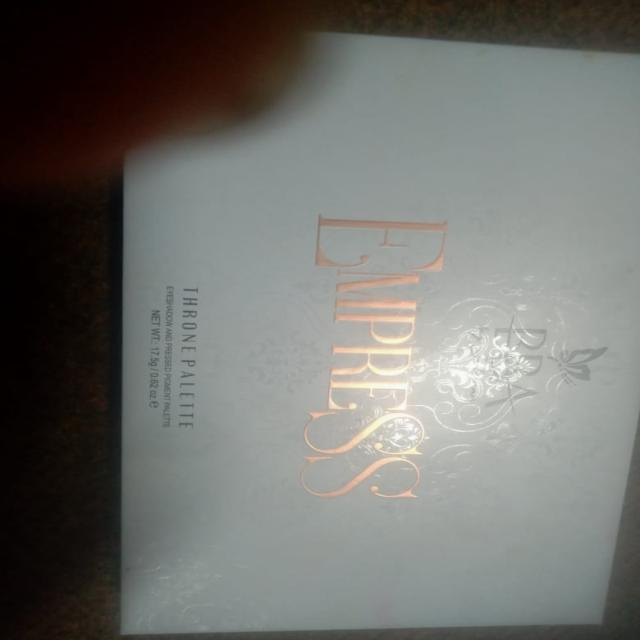makeup: (108, 11, 636, 640)
